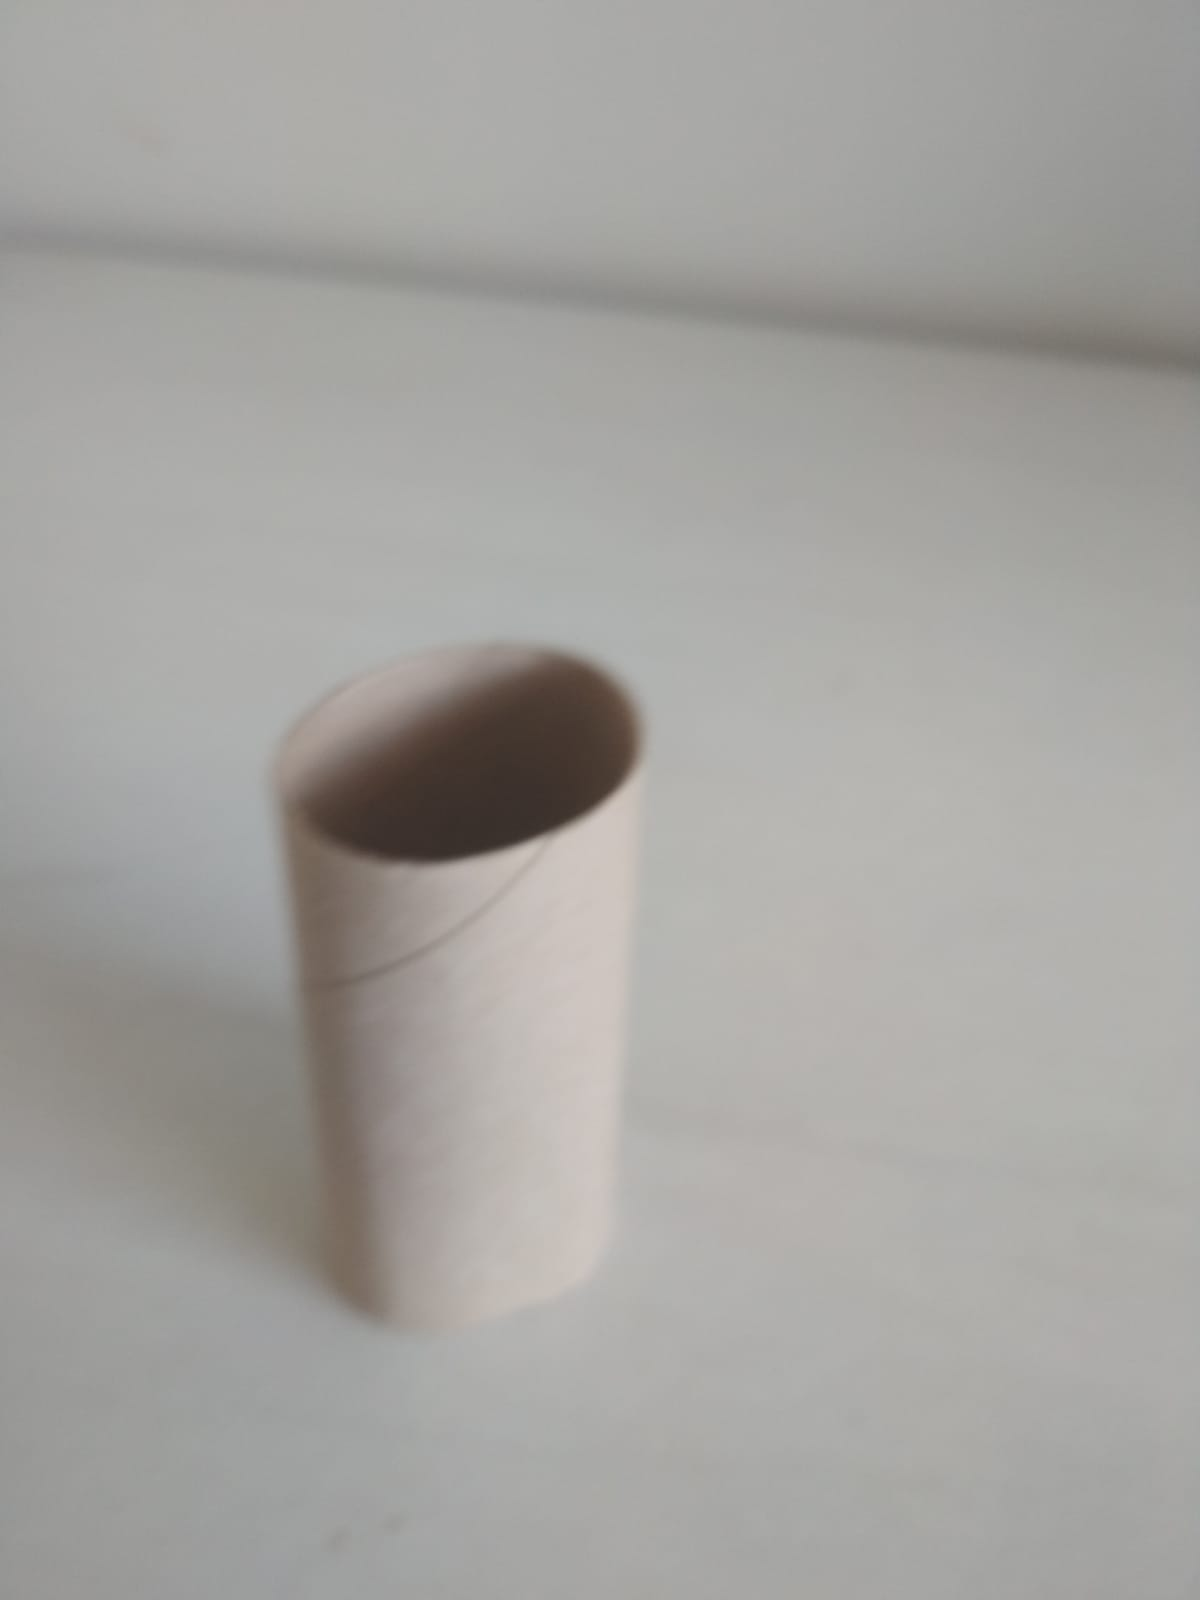rollo papel: (274, 630, 653, 1330)
